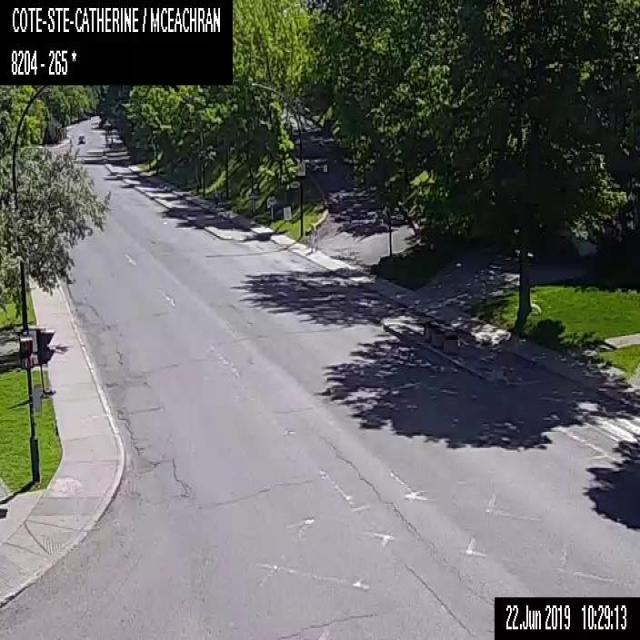pedestrian: (310, 224, 318, 250)
vehicle: (78, 134, 85, 142)
